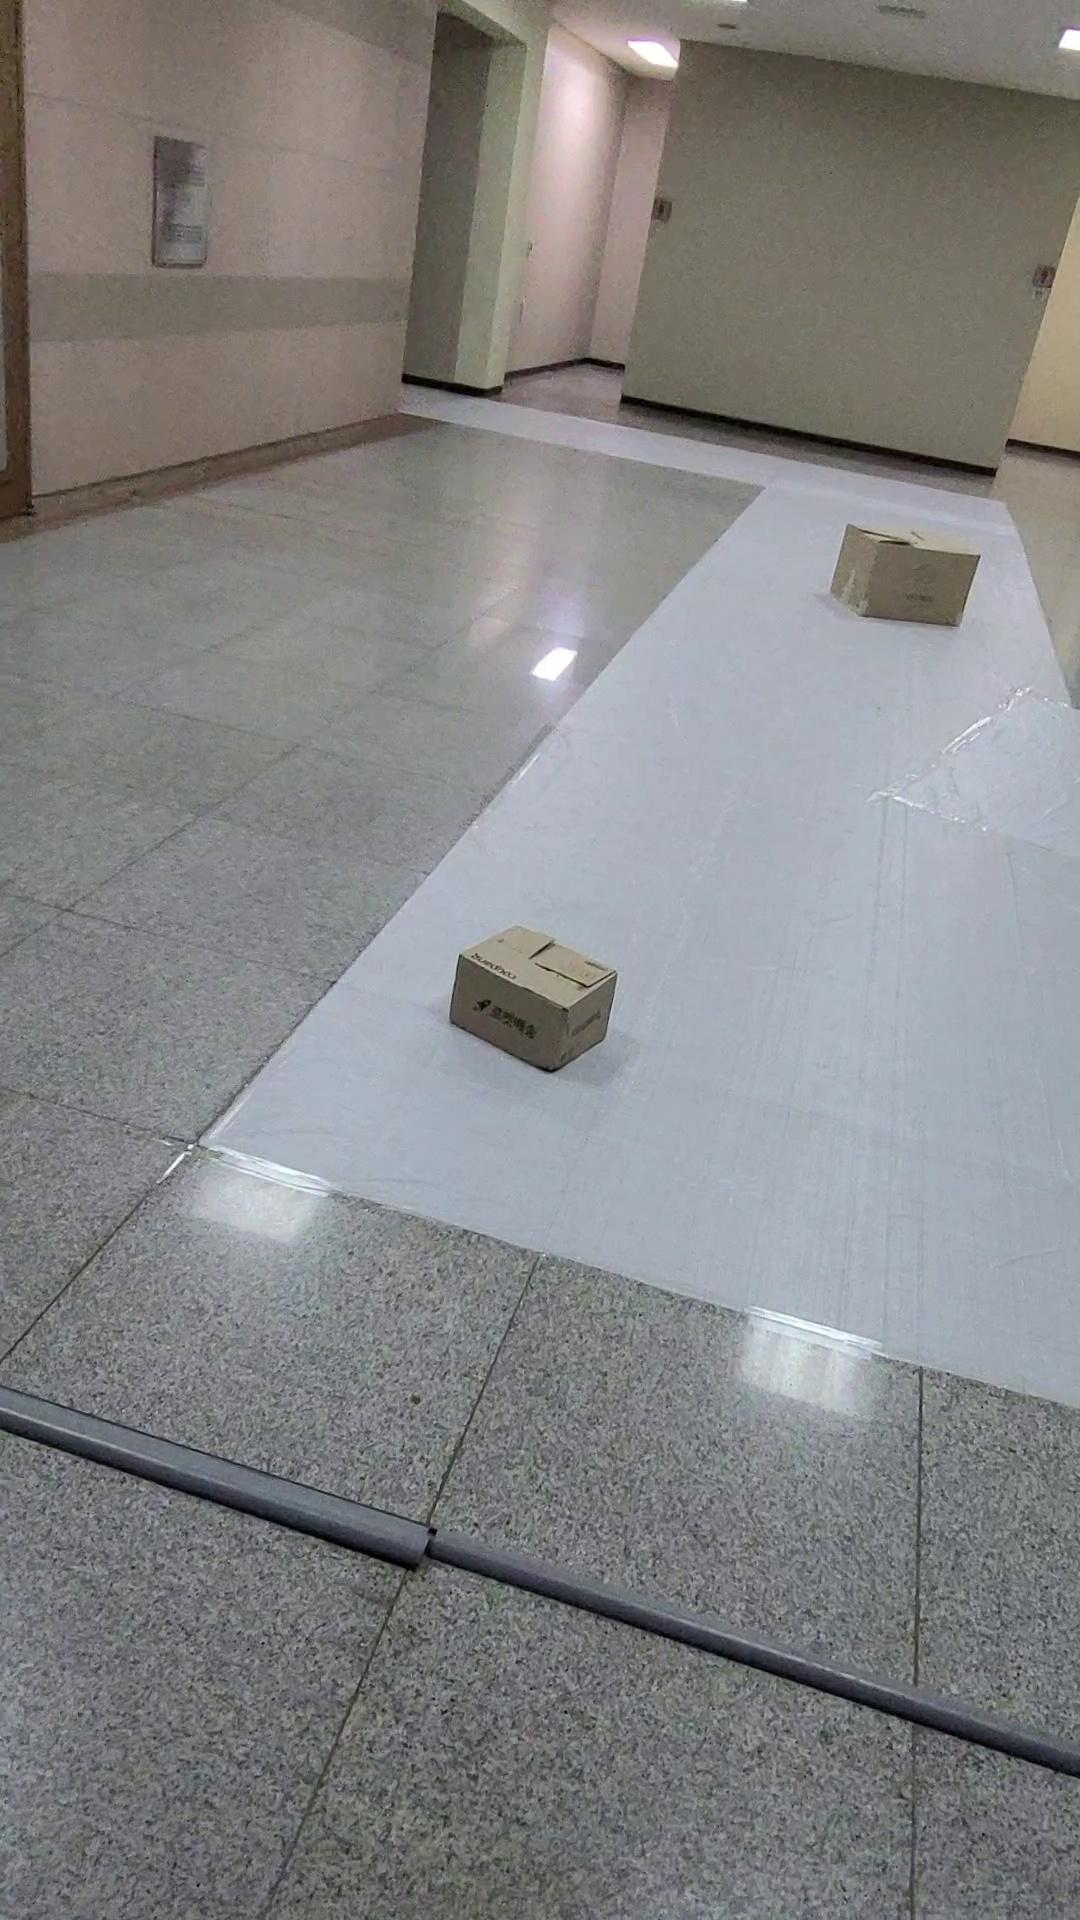Box: (431, 903, 638, 1100), (808, 502, 992, 644)
